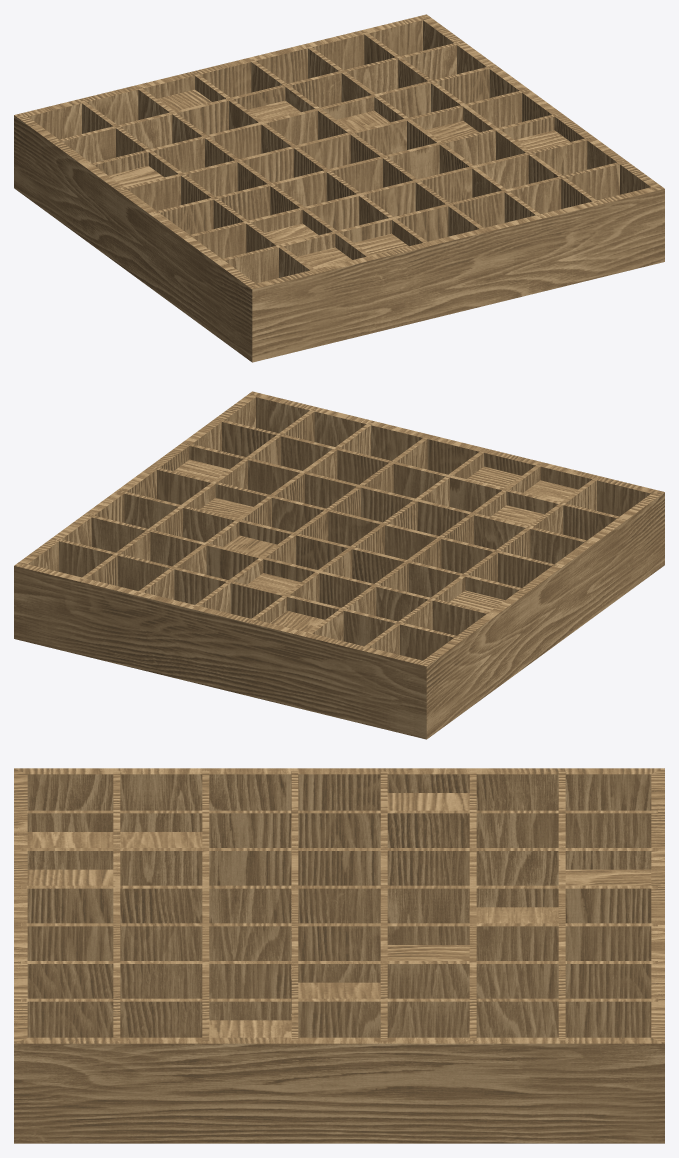
File: RealDiff HD.glb
The picture shows the model from 3 angles, top to bottom: view 1: azimuth 30°, elevation 25°; view 2: azimuth 150°, elevation 25°; view 3: azimuth 270°, elevation 25°; orthographic projection. The views are drawn at different scales.
Parts seen in each view (by area): view 1: RealDiff HD; view 2: RealDiff HD; view 3: RealDiff HD.
Boxes of the visible parts, x1=… form: RealDiff HD: x1=14, y1=14, x2=664, y2=362; RealDiff HD: x1=14, y1=391, x2=664, y2=739; RealDiff HD: x1=14, y1=768, x2=664, y2=1143.
Size of the model in its own units: 0.6001 by 0.1016 by 0.6001.
1 material, 1 textured.
